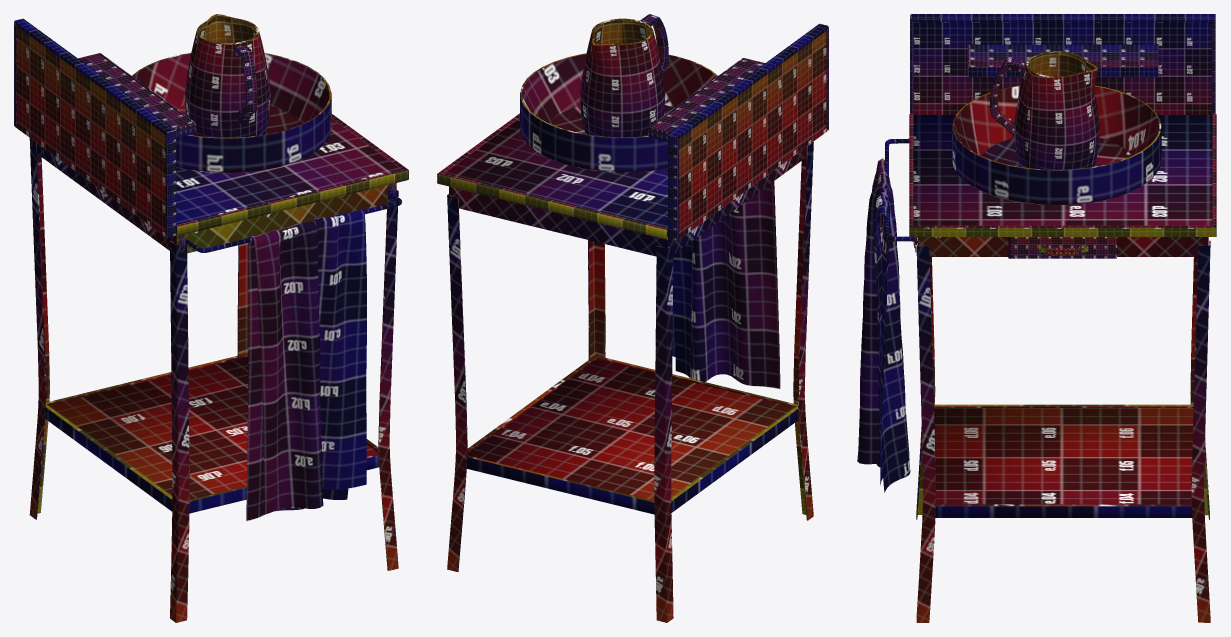
Rendered from OLD_SINK_UNWRAPPED_FIXED.fbx.
3 renders of one model, left to right at view 1: azimuth 30°, elevation 25°; view 2: azimuth 150°, elevation 25°; view 3: azimuth 270°, elevation 25°, orthographic.
Parts seen in each view (by area): view 1: OLD_SINK.005, OLD_SINK.014, OLD_SINK.050, OLD_SINK.004, OLD_SINK.048, OLD_SINK, OLD_SINK.065, OLD_SINK.025, OLD_SINK.063, OLD_SINK.064, OLD_SINK.055, OLD_SINK.061 (+6 smaller); view 2: OLD_SINK.014, OLD_SINK.005, OLD_SINK.050, OLD_SINK.004, OLD_SINK.048, OLD_SINK, OLD_SINK.064, OLD_SINK.055, OLD_SINK.025, OLD_SINK.047, OLD_SINK.065, OLD_SINK.029 (+5 smaller); view 3: OLD_SINK.014, OLD_SINK.048, OLD_SINK.050, OLD_SINK.004, OLD_SINK.005, OLD_SINK, OLD_SINK.063, OLD_SINK.047, OLD_SINK.055, OLD_SINK.018, OLD_SINK.025, OLD_SINK.051 (+9 smaller).
Boxes of the visible parts, <box> form: OLD_SINK.005: <box>246,209,366,521</box>; OLD_SINK.014: <box>48,357,378,499</box>; OLD_SINK.050: <box>15,26,166,237</box>; OLD_SINK.004: <box>132,52,331,173</box>; OLD_SINK.048: <box>176,119,401,224</box>; OLD_SINK: <box>185,14,270,137</box>; OLD_SINK.065: <box>170,241,189,622</box>; OLD_SINK.025: <box>36,143,396,253</box>; OLD_SINK.063: <box>378,190,398,570</box>; OLD_SINK.064: <box>29,138,49,519</box>; OLD_SINK.055: <box>45,353,379,513</box>; OLD_SINK.061: <box>176,170,408,236</box>; OLD_SINK.014: <box>467,359,794,500</box>; OLD_SINK.005: <box>672,181,780,388</box>; OLD_SINK.050: <box>677,31,827,240</box>; OLD_SINK.004: <box>520,53,717,172</box>; OLD_SINK.048: <box>444,118,667,227</box>; OLD_SINK: <box>580,18,665,137</box>; OLD_SINK.064: <box>654,244,673,622</box>; OLD_SINK.055: <box>466,355,798,514</box>; OLD_SINK.025: <box>449,146,806,256</box>; OLD_SINK.047: <box>447,194,467,571</box>; OLD_SINK.065: <box>793,142,813,520</box>; OLD_SINK.029: <box>437,173,667,239</box>; OLD_SINK.014: <box>934,408,1193,504</box>; OLD_SINK.048: <box>913,115,1212,225</box>; OLD_SINK.050: <box>912,21,1213,114</box>; OLD_SINK.004: <box>951,85,1161,205</box>; OLD_SINK.005: <box>857,158,910,492</box>; OLD_SINK: <box>1014,51,1099,169</box>; OLD_SINK.063: <box>916,244,935,622</box>; OLD_SINK.047: <box>1191,240,1210,622</box>; OLD_SINK.055: <box>934,404,1193,517</box>; OLD_SINK.018: <box>910,225,1216,236</box>; OLD_SINK.025: <box>918,237,1208,256</box>; OLD_SINK.051: <box>969,44,1156,66</box>.
Size of the model in its own units: 45.1 by 89.29 by 57.03.
